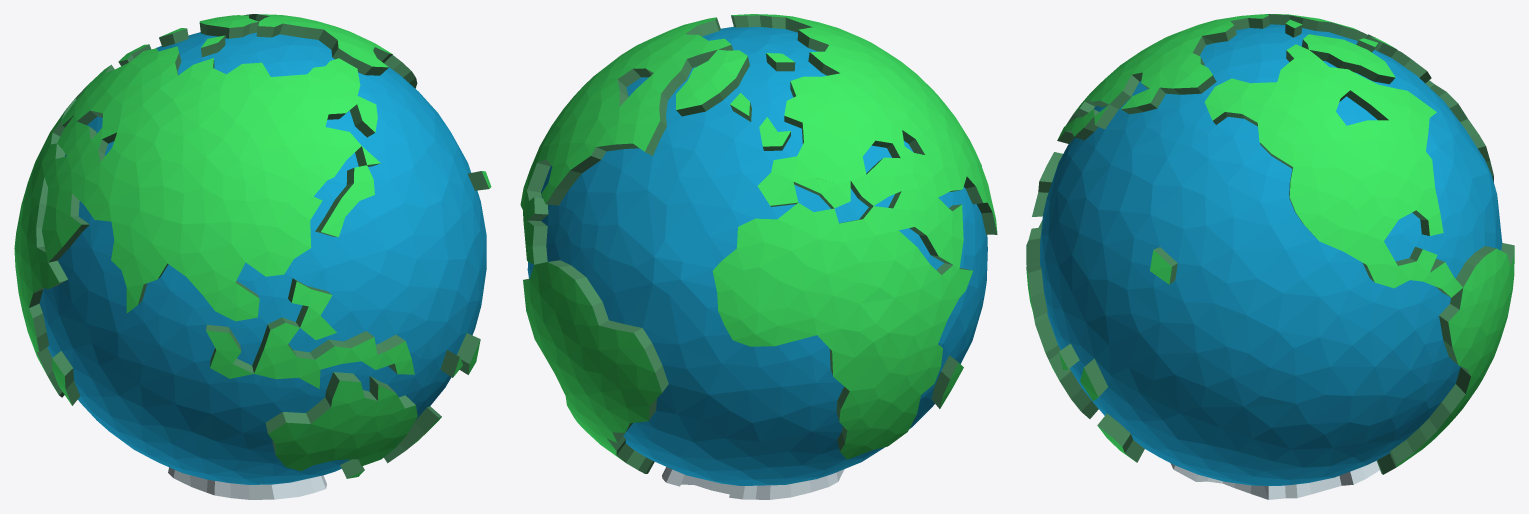
Rendered from earth.gltf.
The picture shows the model from 3 angles, left to right: view 1: azimuth 30°, elevation 25°; view 2: azimuth 150°, elevation 25°; view 3: azimuth 270°, elevation 25°; orthographic projection.
Parts seen in each view (by area): view 1: Sphere; view 2: Sphere; view 3: Sphere.
Boxes of the visible parts, x1=… form: Sphere: x1=14, y1=14, x2=491, y2=499; Sphere: x1=520, y1=14, x2=997, y2=499; Sphere: x1=1026, y1=14, x2=1514, y2=499.
Size of the model in its own units: 204 by 211 by 211.
